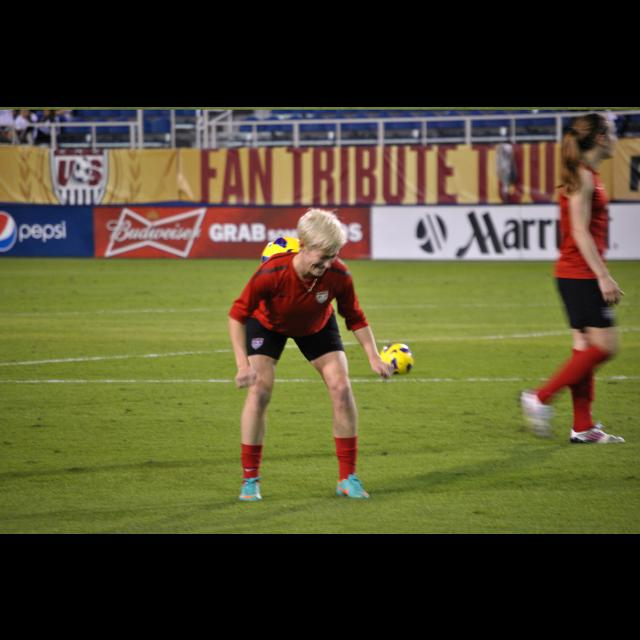Football: (256, 233, 300, 263), (378, 342, 414, 372)
